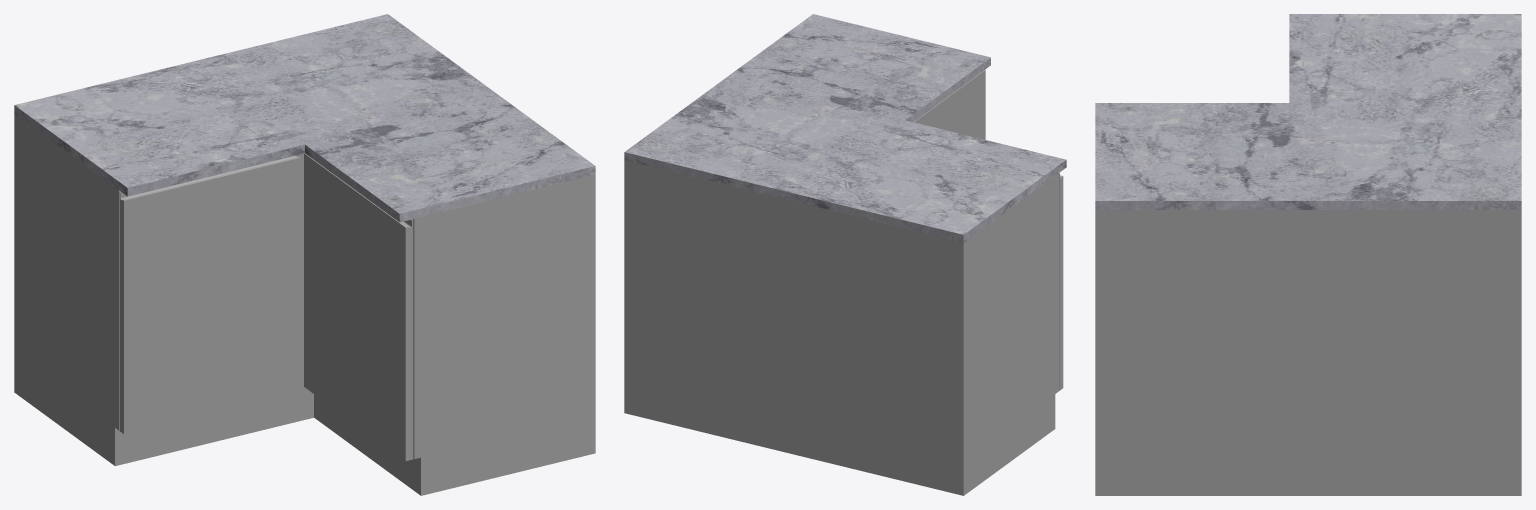
File: kitchen_corner_unit.glb
3 renders of one model, left to right at view 1: azimuth 30°, elevation 25°; view 2: azimuth 150°, elevation 25°; view 3: azimuth 270°, elevation 25°, orthographic. The views are drawn at different scales.
Visible parts, largest first — view 1: Geom3D (×4); view 2: Geom3D (×4); view 3: Geom3D (×2).
Part boxes in pixels (left/top/right/bottom): Geom3D (×4): left=14, top=14, right=595, bottom=495; Geom3D (×4): left=624, top=14, right=1066, bottom=495; Geom3D (×2): left=1095, top=14, right=1521, bottom=495.
Size of the model in its own units: 1.22 by 0.897 by 1.18.
2 materials, 1 textured.
